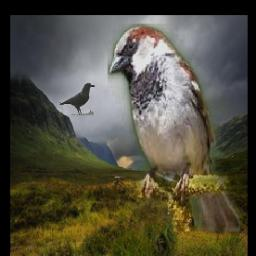Crow: (59, 83, 96, 116)
Sparrow: (109, 24, 241, 231)
